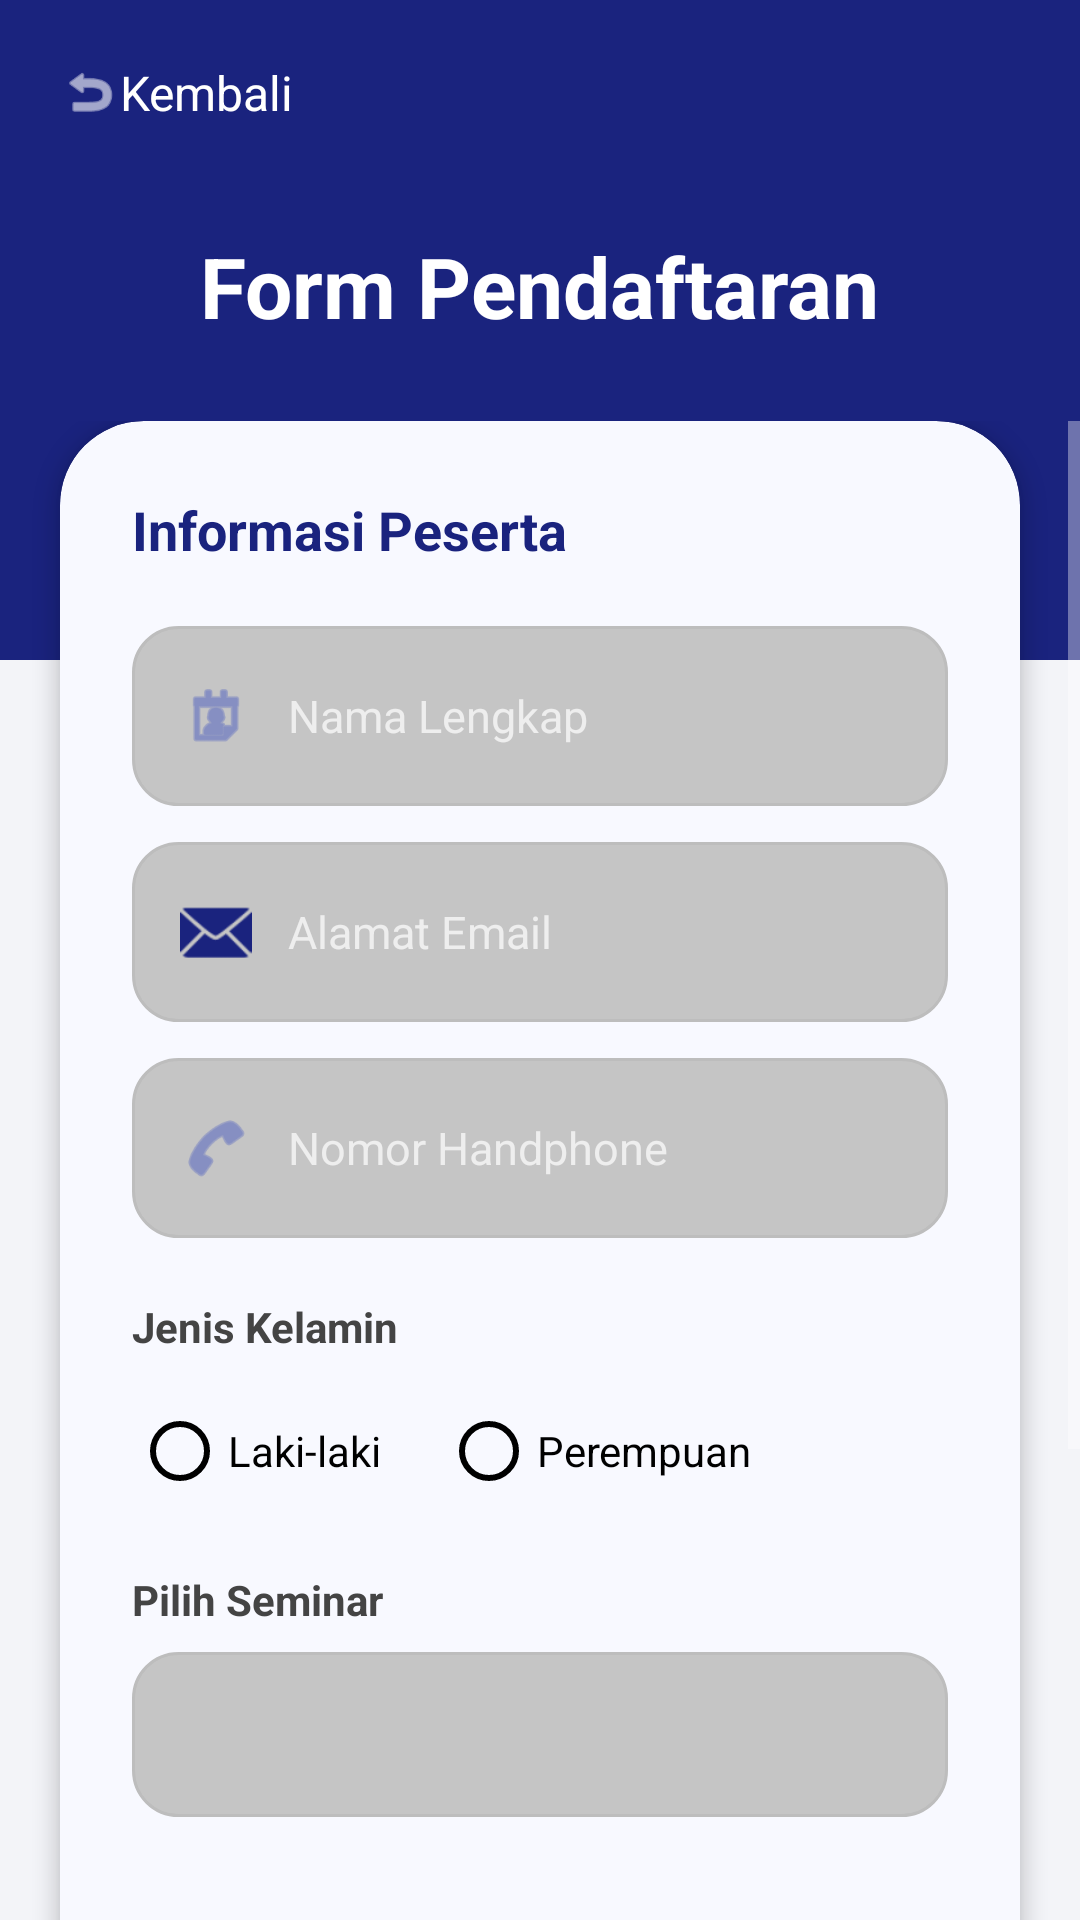

Named icons in this screenshot (1080 x 1920) and their bounding boxes, (x1, y1, x2, y2):
calendar: (193, 689, 239, 741)
call: (189, 1121, 244, 1176)
revert: (69, 73, 112, 112)
